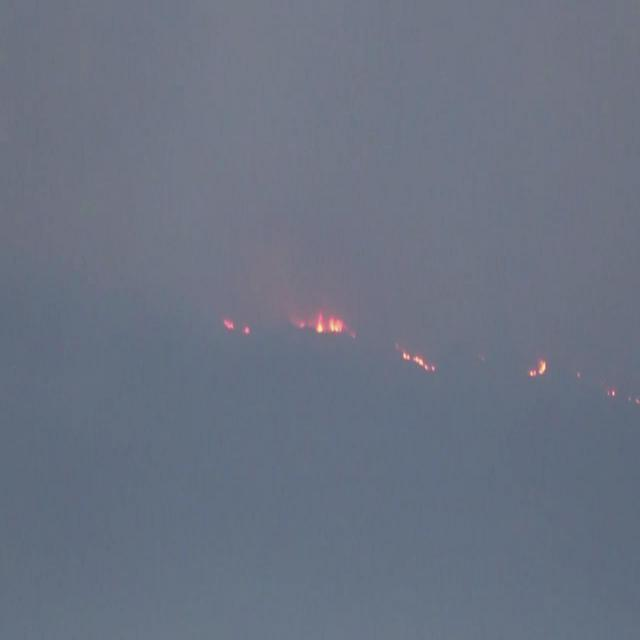Fire: (296, 310, 354, 338), (402, 351, 434, 374), (529, 356, 547, 381), (222, 318, 234, 330)
